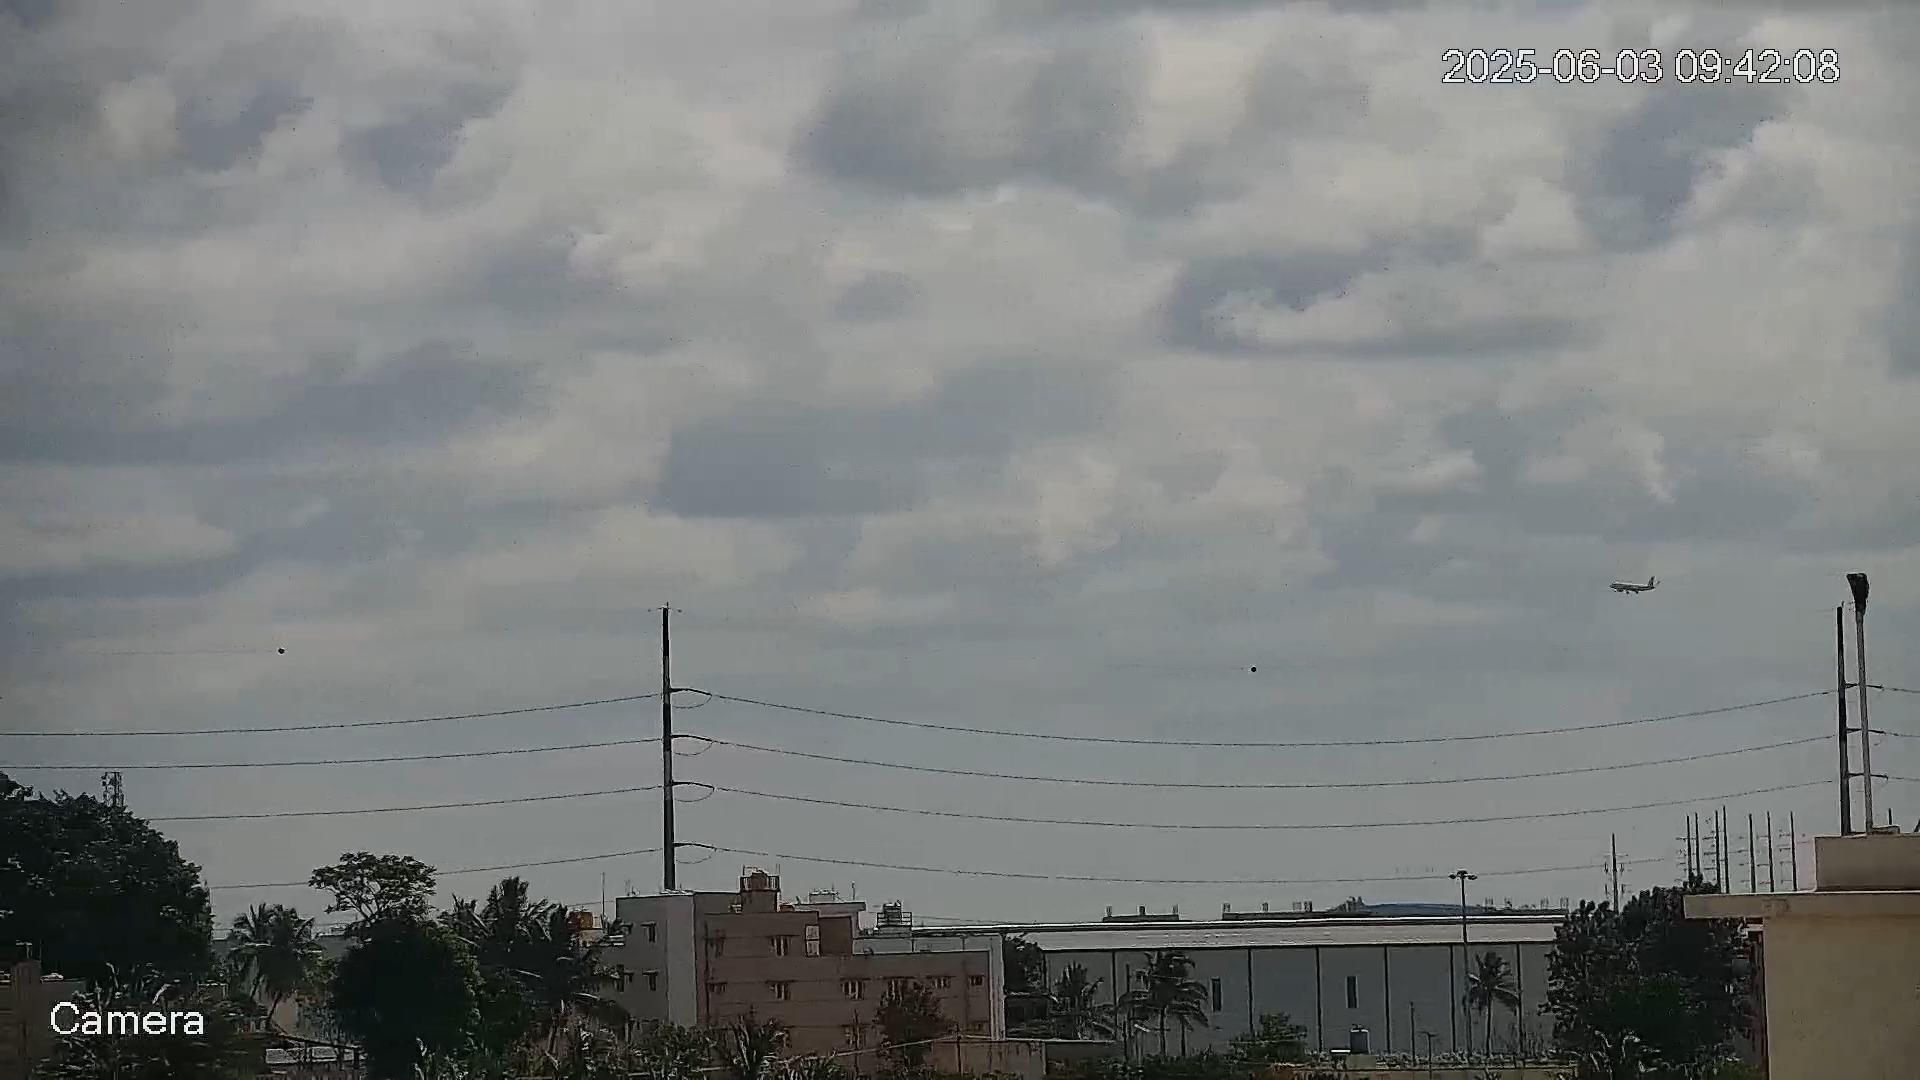Aircraft: (1609, 576, 1659, 596)
